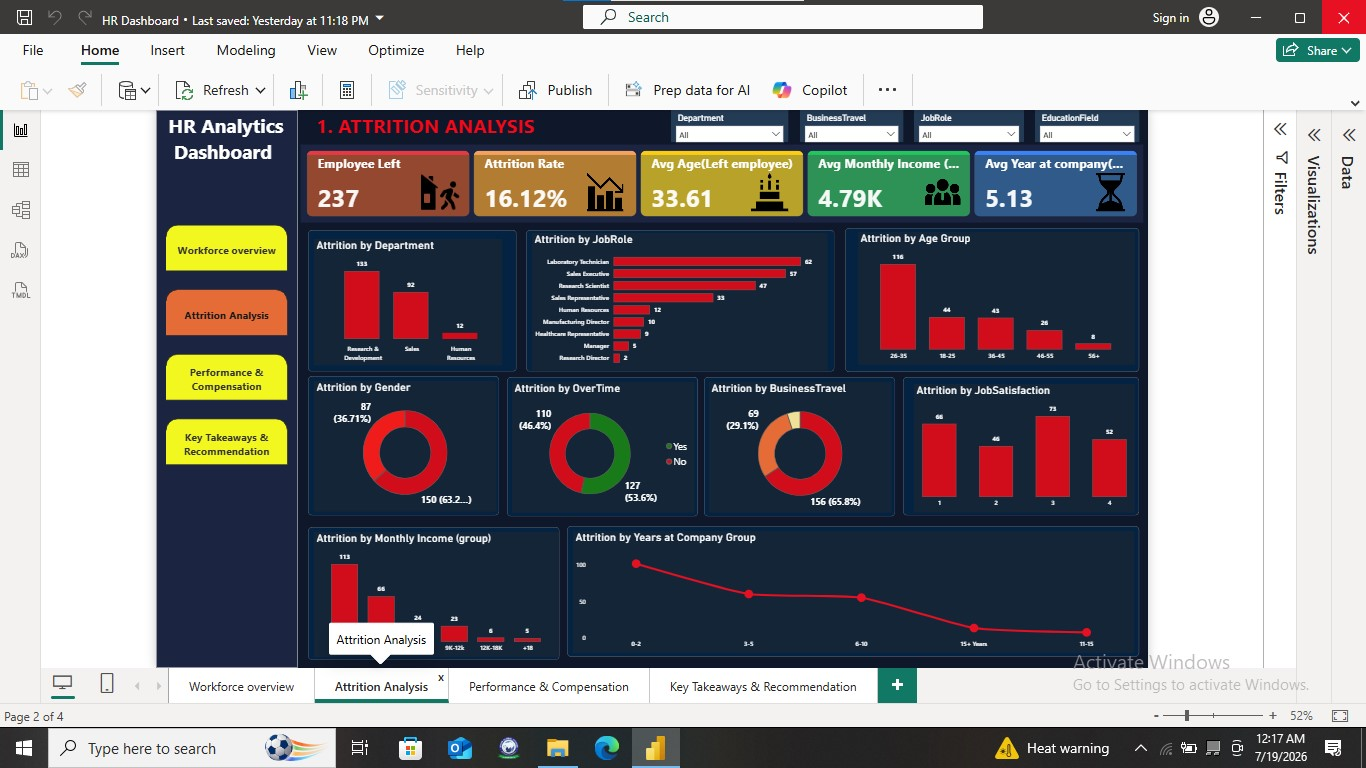

The dashboard page shown, as its layout file describes it:
{"tool":"powerbi","page":{"name":"Attrition Analysis","canvas":[1920,1080],"ordinal":1},"visuals":[{"type":"shape","box":[680.3,516.6,369.9,270],"z":0},{"type":"shape","box":[293.9,806.6,487,257.4],"z":1000},{"type":"shape","box":[795.1,805.7,1107.6,253],"z":2000},{"type":"shape","box":[293.4,231.7,403.9,274.3],"z":3000},{"type":"shape","box":[0,0,274.3,1080],"z":4000},{"type":"textbox","box":[19.1,0,255.1,121.2],"z":5000},{"type":"cardVisual","fields":{"Data":["HR-Employee-Attrition.Employee Left","HR-Employee-Attrition.Attrition Rate","HR-Employee-Attrition.Avg Age(Left employee)","HR-Employee-Attrition.Avg Monthly Income (left)","HR-Employee-Attrition.Avg Year at company(Left)"]},"box":[274.3,61.7,1645.5,161.6],"z":6000},{"type":"columnChart","title":"Attrition by Department","fields":{"Category":["HR-Employee-Attrition.Department"],"Y":["HR-Employee-Attrition.Employee Left"]},"box":[306.1,248.7,363.5,244.5],"z":7000},{"type":"shape","box":[716.5,231.7,597.4,274.3],"z":8000},{"type":"barChart","title":"Attrition by JobRole","fields":{"Category":["HR-Employee-Attrition.JobRole"],"Y":["HR-Employee-Attrition.Employee Left"]},"box":[727.1,238.1,571.9,265.7],"z":9000},{"type":"shape","box":[293.4,514.5,370,270],"z":10000},{"type":"shape","box":[1333,227.5,569.8,278.5],"z":11000},{"type":"clusteredColumnChart","title":"Attrition by Age Group","fields":{"Category":["HR-Employee-Attrition.Age Group"],"Y":["HR-Employee-Attrition.Employee Left"]},"box":[1358.5,236,535.7,257.2],"z":12000},{"type":"lineChart","title":"Attrition by Years at Company Group","fields":{"Y":["HR-Employee-Attrition.Employee Left"],"Category":["HR-Employee-Attrition.Years at Company Group"]},"box":[807.9,814.3,1086.4,236],"z":13000},{"type":"image","box":[1486.1,121.2,72.3,74.4],"z":14000},{"type":"image","box":[512.4,121.2,74.4,74.4],"z":15000},{"type":"image","box":[833.4,121.2,70.2,74.4],"z":16000},{"type":"image","box":[1152.3,121.2,72.3,74.4],"z":17000},{"type":"image","box":[1811.3,121.2,72.3,74.4],"z":18000},{"type":"textbox","box":[306.1,0,489,61.7],"z":19000},{"type":"slicer","fields":{"Values":["HR-Employee-Attrition.Department"]},"box":[997.1,0,227.5,61.7],"z":20000},{"type":"slicer","fields":{"Values":["HR-Employee-Attrition.BusinessTravel"]},"box":[1245.8,0,199.8,61.7],"z":21000},{"type":"slicer","fields":{"Values":["HR-Employee-Attrition.JobRole"]},"box":[1466.9,0,212.6,61.7],"z":22000},{"type":"slicer","fields":{"Values":["HR-Employee-Attrition.EducationField"]},"box":[1700.8,0,202,61.7],"z":23000},{"type":"shape","box":[1060.9,516.6,370,270],"z":24000},{"type":"donutChart","title":"Attrition by BusinessTravel","fields":{"Y":["HR-Employee-Attrition.Employee Left"],"Category":["HR-Employee-Attrition.BusinessTravel"]},"box":[1069.4,527.2,352.9,253],"z":25000},{"type":"shape","box":[1445.7,516.6,457.1,267.9],"z":26000},{"type":"clusteredColumnChart","title":"Attrition by JobSatisfaction","fields":{"Y":["HR-Employee-Attrition.Employee Left"],"Category":["HR-Employee-Attrition.JobSatisfaction"]},"box":[1466.9,529.4,427.3,248.7],"z":27000},{"type":"donutChart","title":"Attrition by OverTime","fields":{"Category":["HR-Employee-Attrition.OverTime"],"Y":["HR-Employee-Attrition.Employee Left"]},"box":[688.8,527.2,352.9,253],"z":28000},{"type":"donutChart","title":"Attrition by Gender","fields":{"Category":["HR-Employee-Attrition.Gender"],"Y":["HR-Employee-Attrition.Employee Left"]},"box":[306.1,525.1,352.9,253],"z":29000},{"type":"columnChart","title":"Attrition by Monthly Income (group)","fields":{"Category":["HR-Employee-Attrition.Monthly Income (group)"],"Y":["HR-Employee-Attrition.Employee Left"]},"box":[306.1,816.4,474.1,242.4],"z":30000},{"type":"pageNavigator","box":[19.1,223.2,236,467.7],"z":31000}]}

Visuals, with their boxes on the page's 1920x1080 design canvas (x1, y1, x2, y2). These are canvas units, not pixel positions in the 1366x768 screenshot, which may show the page scaled, cropped or inside an application window:
shape: (680,517,1050,787)
shape: (294,807,781,1064)
shape: (795,806,1903,1059)
shape: (293,232,697,506)
shape: (0,0,274,1080)
textbox: (19,0,274,121)
cardVisual - HR-Employee-Attrition.Employee Left x HR-Employee-Attrition.Attrition Rate: (274,62,1920,223)
"Attrition by Department" columnChart: (306,249,670,493)
shape: (716,232,1314,506)
"Attrition by JobRole" barChart: (727,238,1299,504)
shape: (293,514,663,784)
shape: (1333,228,1903,506)
"Attrition by Age Group" clusteredColumnChart: (1358,236,1894,493)
"Attrition by Years at Company Group" lineChart: (808,814,1894,1050)
image: (1486,121,1558,196)
image: (512,121,587,196)
image: (833,121,904,196)
image: (1152,121,1225,196)
image: (1811,121,1884,196)
textbox: (306,0,795,62)
slicer - HR-Employee-Attrition.Department: (997,0,1225,62)
slicer - HR-Employee-Attrition.BusinessTravel: (1246,0,1446,62)
slicer - HR-Employee-Attrition.JobRole: (1467,0,1680,62)
slicer - HR-Employee-Attrition.EducationField: (1701,0,1903,62)
shape: (1061,517,1431,787)
"Attrition by BusinessTravel" donutChart: (1069,527,1422,780)
shape: (1446,517,1903,784)
"Attrition by JobSatisfaction" clusteredColumnChart: (1467,529,1894,778)
"Attrition by OverTime" donutChart: (689,527,1042,780)
"Attrition by Gender" donutChart: (306,525,659,778)
"Attrition by Monthly Income (group)" columnChart: (306,816,780,1059)
pageNavigator: (19,223,255,691)
